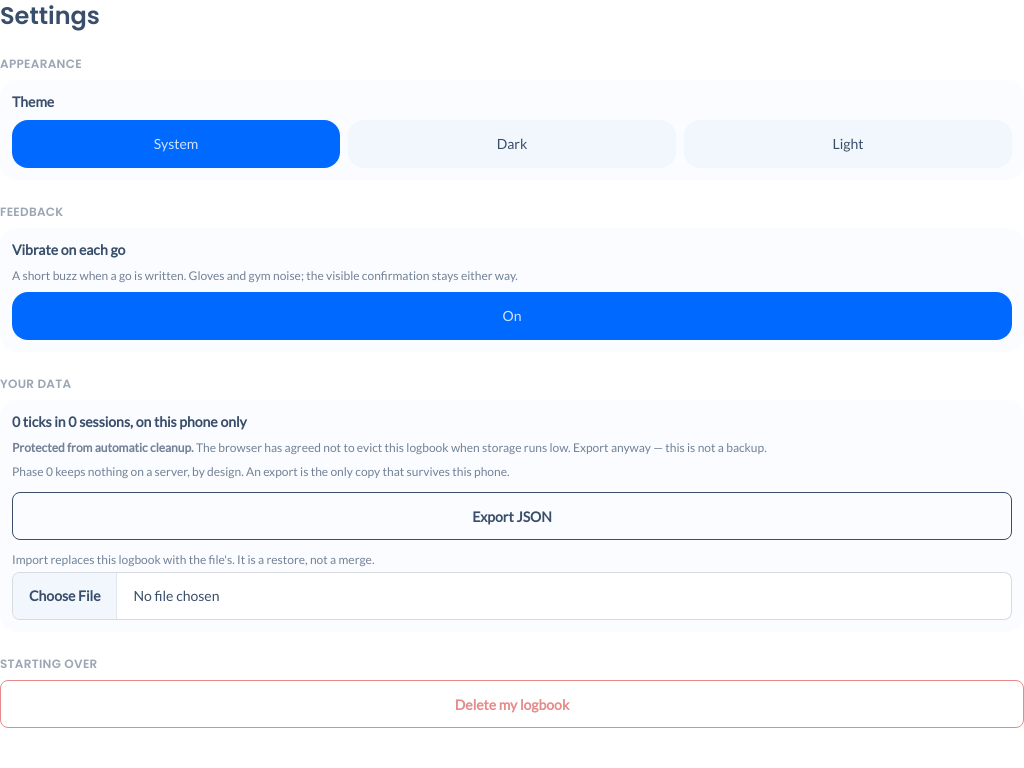
it: deleting › does not threaten a loss when there is nothing to lose
Click the button "Delete my logbook".
click(512, 704)  # box x1=0 y1=680 x2=1023 y2=728
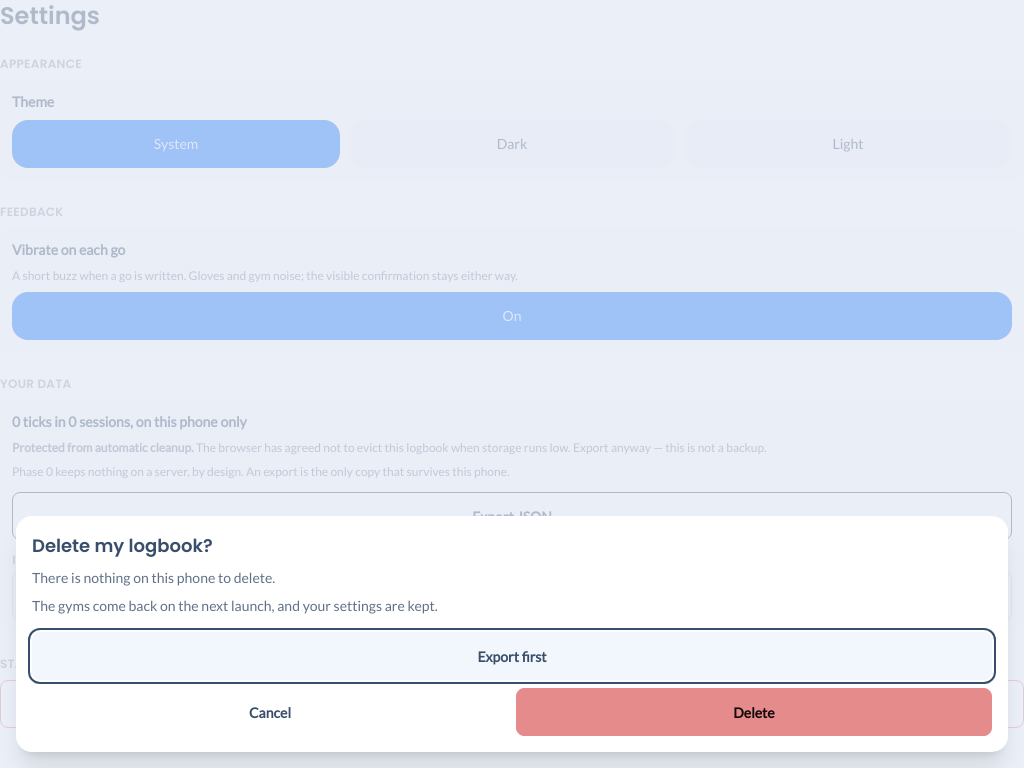
Expected: the dialog does not show "no undo", x1=16 y1=516 x2=1008 y2=752
Expected: the dialog shows "nothing on this phone to delete", x1=32 y1=569 x2=275 y2=586
